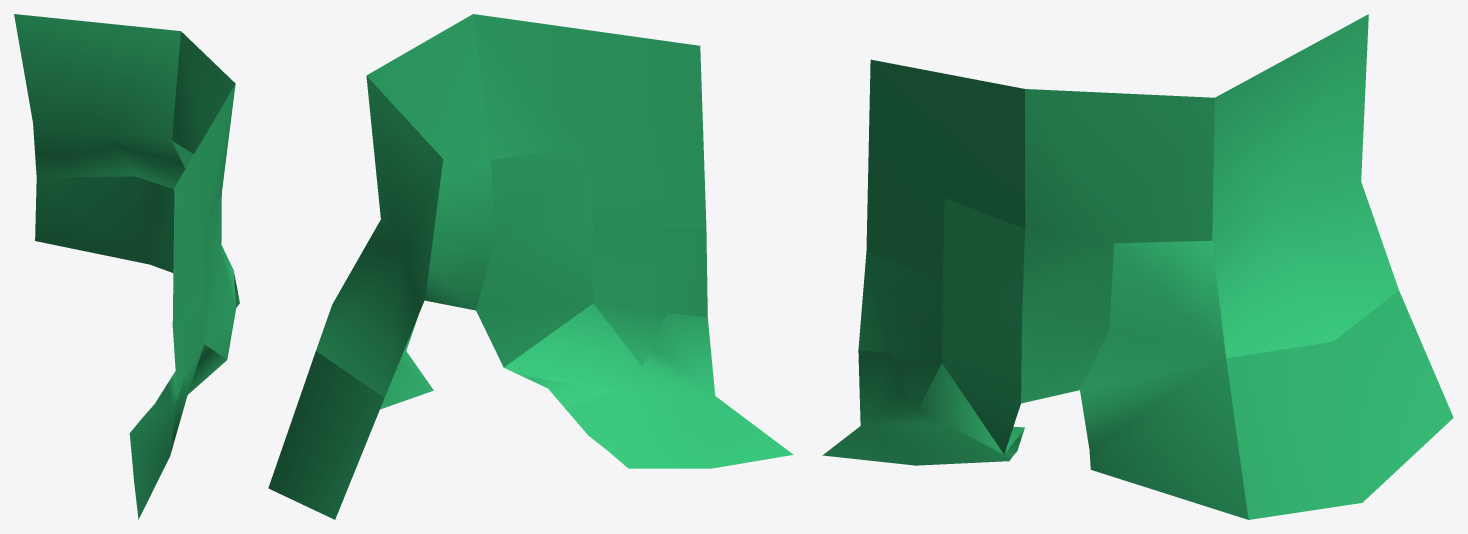
The model's file is cluster_4.fbx.
3 renders of one model, left to right at view 1: azimuth 30°, elevation 25°; view 2: azimuth 150°, elevation 25°; view 3: azimuth 270°, elevation 25°, orthographic. The views are drawn at different scales.
Visible parts, largest first — view 1: cluster_4; view 2: cluster_4; view 3: cluster_4.
Part boxes in pixels (x1,y1,x2,y2): cluster_4: (14,14,239,519); cluster_4: (268,14,793,519); cluster_4: (822,14,1453,519).
Bounding box in the file's own units: 99849 × 145510 × 170193.
